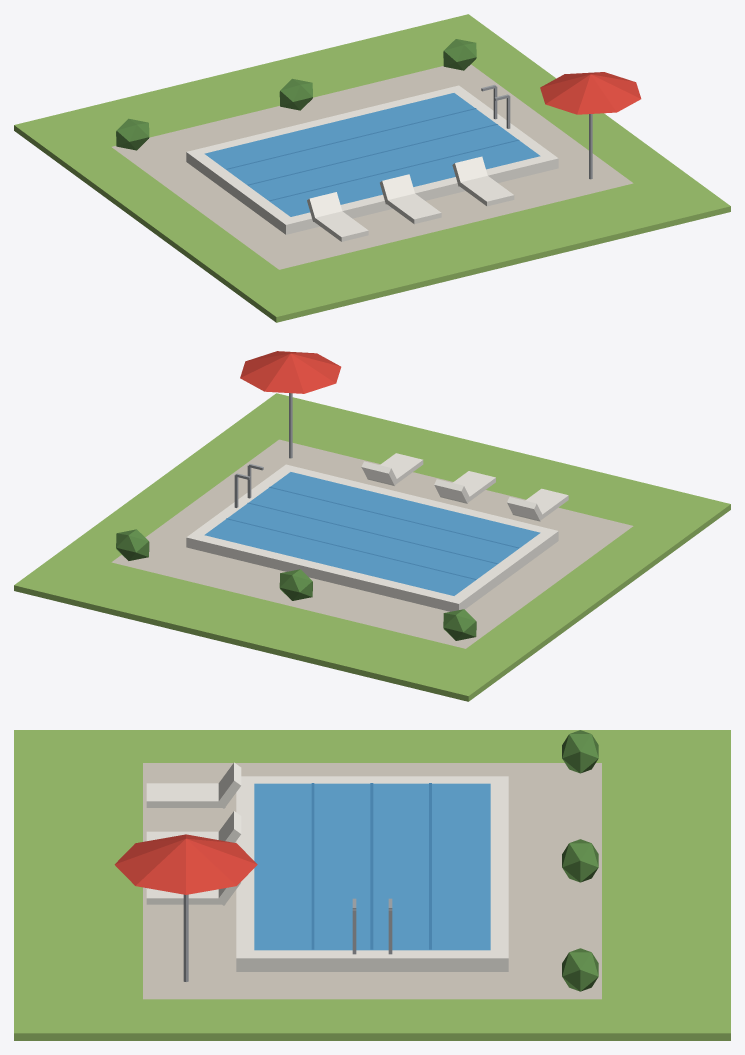
File: Avlu_havuz_Hafif.fbx
3 views of the same model, one above another, from view 1: azimuth 30°, elevation 25°; view 2: azimuth 150°, elevation 25°; view 3: azimuth 270°, elevation 25° (orthographic). The views are drawn at different scales.
Visible parts, largest first — view 1: Avlu_havuz_Hafif; view 2: Avlu_havuz_Hafif; view 3: Avlu_havuz_Hafif.
Part boxes in pixels (x1,y1,x2,y2): Avlu_havuz_Hafif: (14, 14, 730, 322); Avlu_havuz_Hafif: (14, 351, 730, 701); Avlu_havuz_Hafif: (14, 730, 730, 1040).
Size of the model in its own units: 10 by 2.32 by 10.
